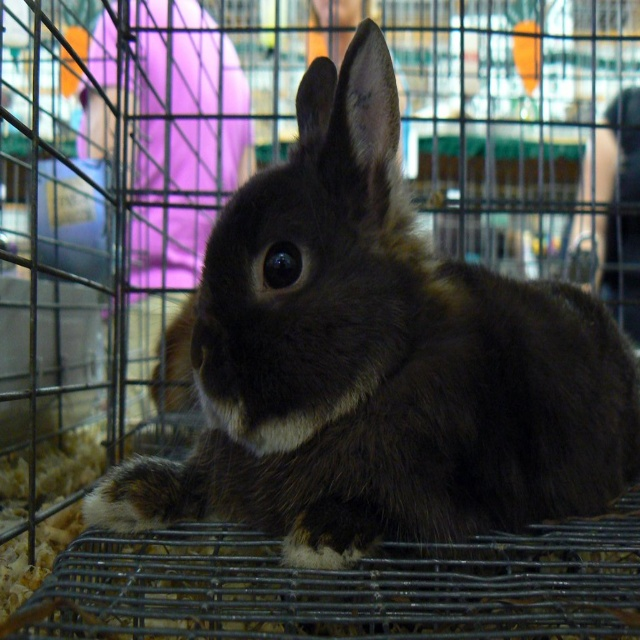Rabbit: (85, 22, 640, 567)
